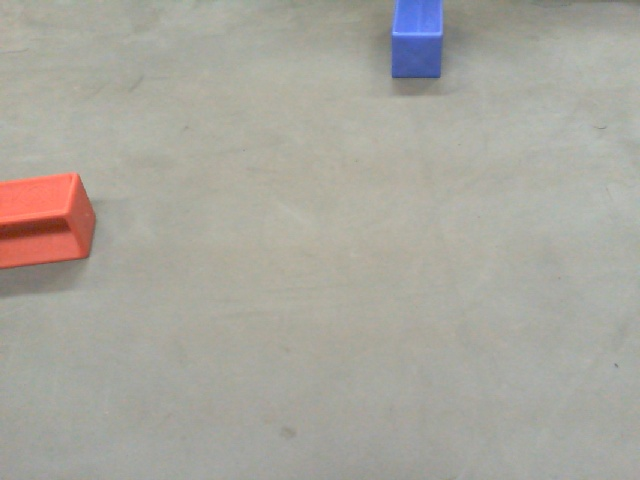BlueSample: (389, 1, 446, 79)
RedSample: (1, 167, 100, 268)
